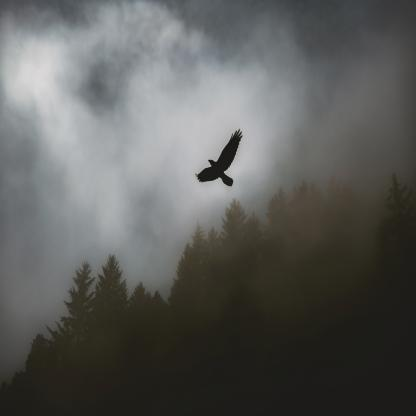bird: (196, 128, 239, 188)
